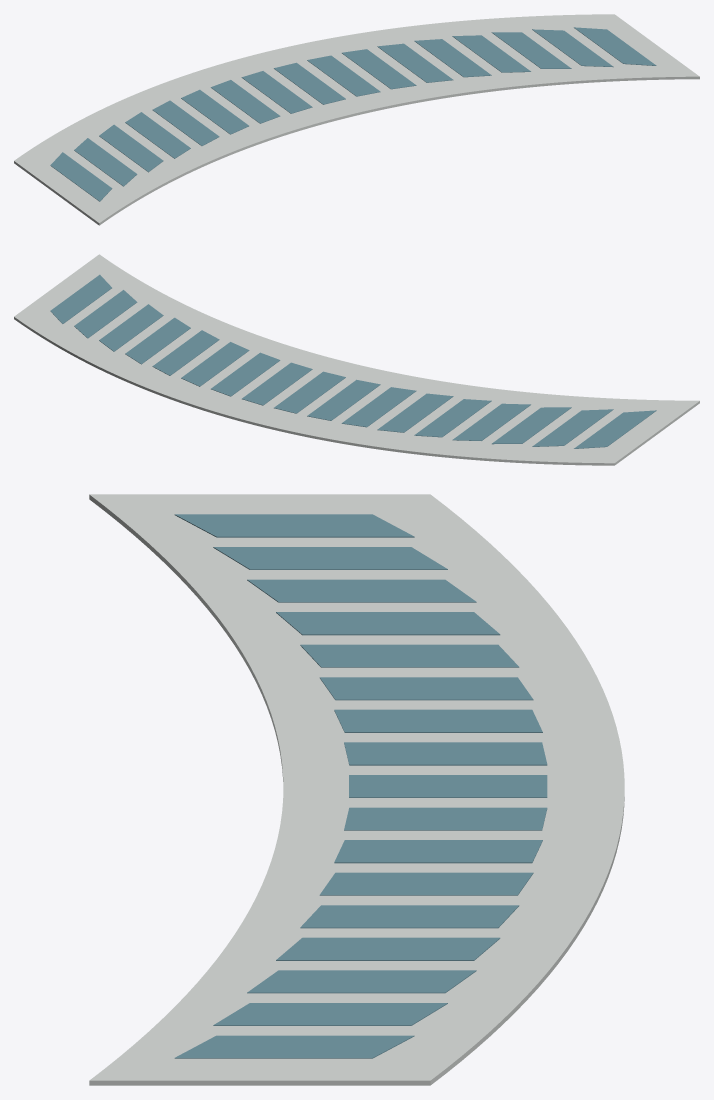
Rendered from floor_roof.glb.
The picture shows the model from 3 angles, top to bottom: view 1: azimuth 30°, elevation 25°; view 2: azimuth 150°, elevation 25°; view 3: azimuth 270°, elevation 25°; orthographic projection. The views are drawn at different scales.
Parts seen in each view (by area): view 1: floor_roof_roof, floor_roof_glassLight; view 2: floor_roof_roof, floor_roof_glassLight; view 3: floor_roof_roof, floor_roof_glassLight.
Part boxes in pixels (x1=…): floor_roof_roof: x1=14, y1=14, x2=699, y2=225; floor_roof_glassLight: x1=50, y1=27, x2=656, y2=201; floor_roof_roof: x1=14, y1=254, x2=699, y2=465; floor_roof_glassLight: x1=50, y1=274, x2=656, y2=448; floor_roof_roof: x1=89, y1=494, x2=624, y2=1085; floor_roof_glassLight: x1=174, y1=514, x2=547, y2=1058.
Bounding box in the file's own units: 126 × 0.64 × 48.64.
